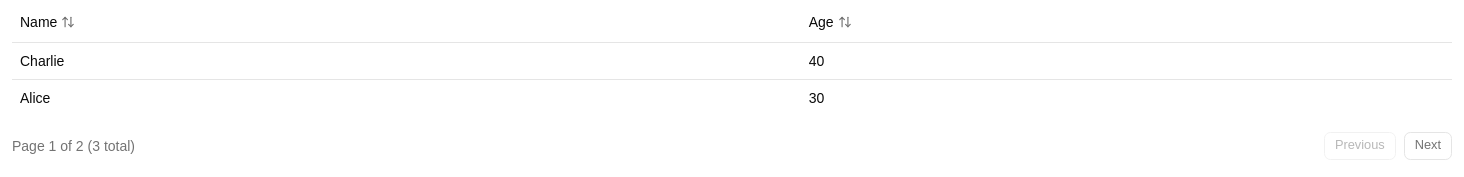
Test case: DataTable › paginates and Next/Previous are disabled at the bounds
This screenshot has width=1464, height=177.
Expected: the text "Page 1 of 2 (3 total)" is shown, 12,136 -> 135,156
Expected: the button "Previous" is disabled, 1324,132 -> 1396,160
Click the button "Next".
click(1428, 146)  # box 1404,132 -> 1452,160
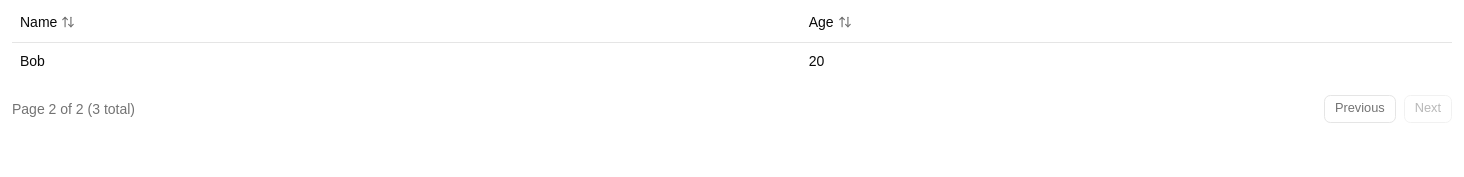
Now the text "Page 2 of 2 (3 total)" is shown, box 12,98 -> 135,118
Now the button "Next" is disabled, box 1404,94 -> 1452,122
